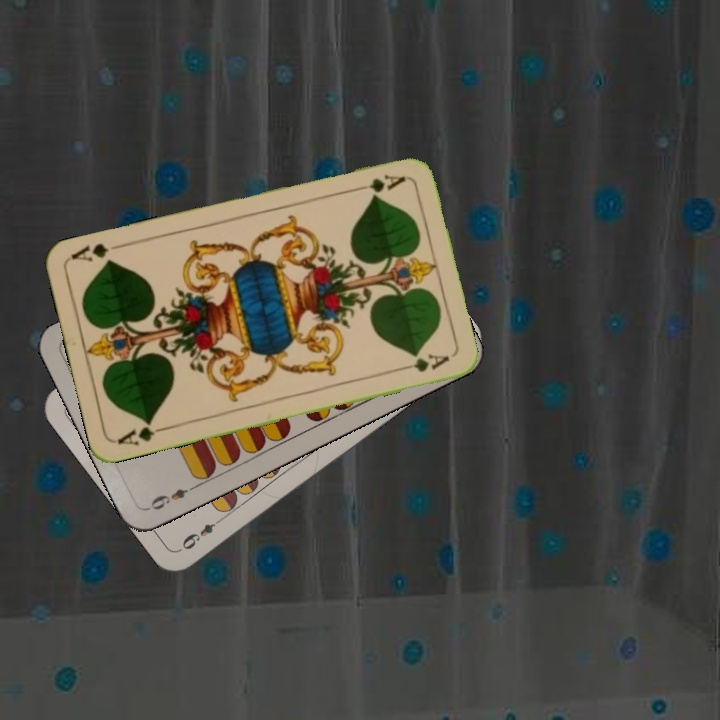E9: (178, 513, 227, 553), (143, 481, 199, 513)
GA: (113, 417, 172, 448), (350, 170, 409, 199)
